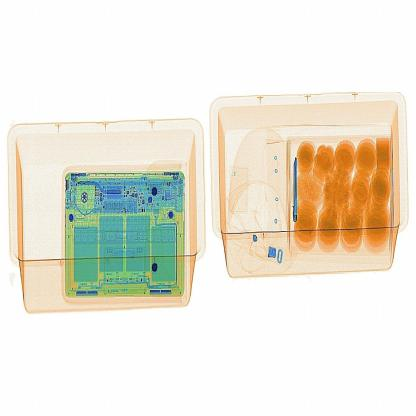pliers: (280, 151, 307, 226)
